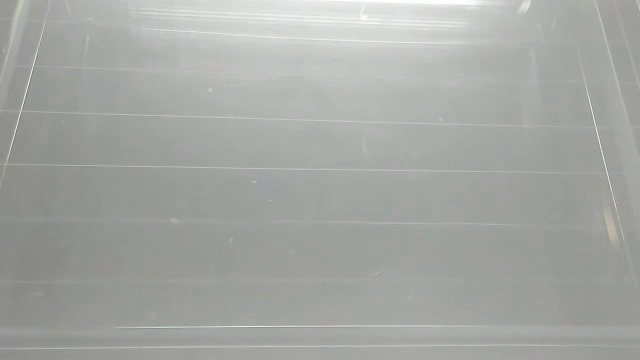alpha: (511, 1, 534, 16)
